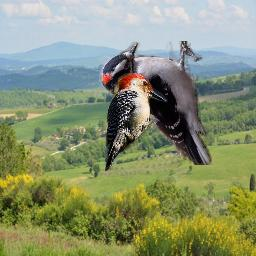Woodpecker: (99, 41, 212, 165), (105, 73, 168, 171)
